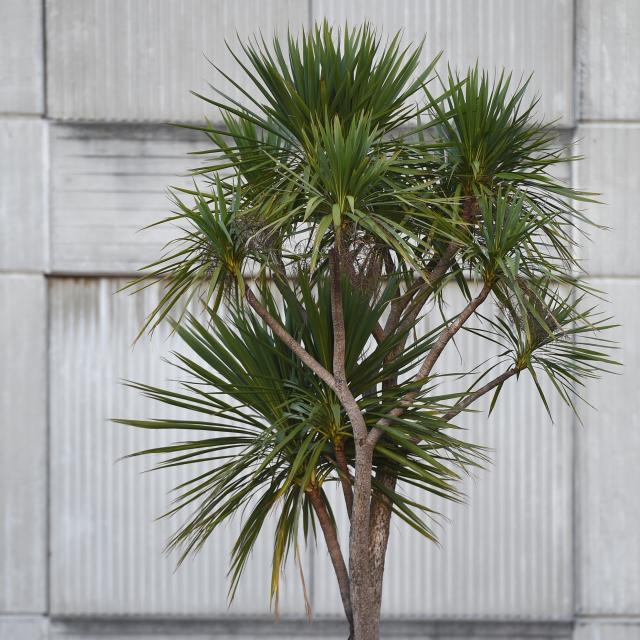Cordyline australis: (151, 40, 608, 640)
